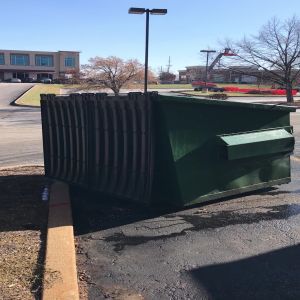Dumpster: (35, 92, 298, 205)
